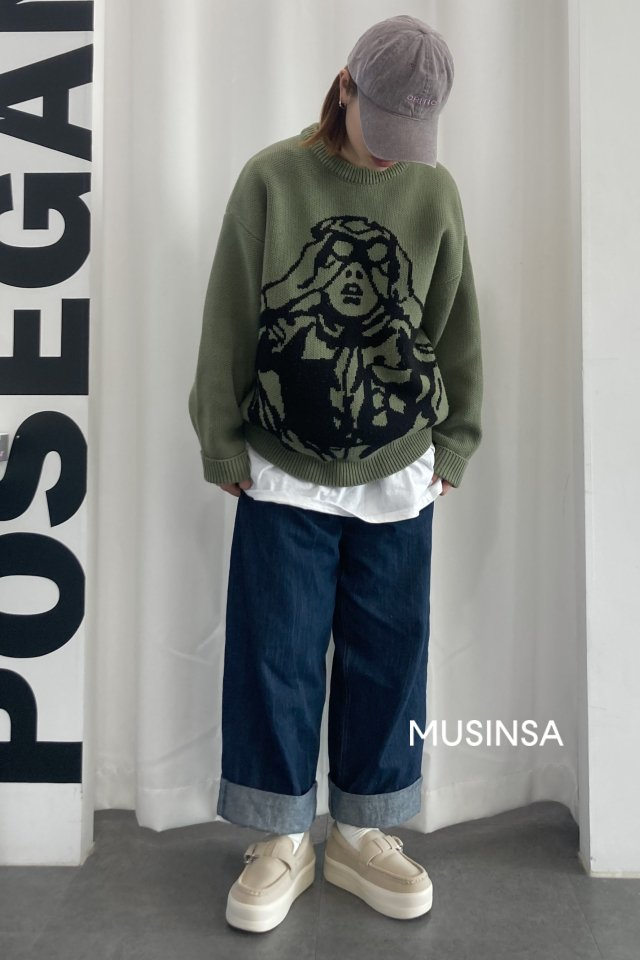Cap: (354, 18, 446, 167)
Pants: (229, 498, 435, 841)
Shoes: (223, 828, 449, 933)
Top: (193, 122, 505, 493)
